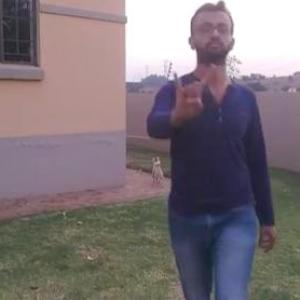takeoff-hand: (165, 57, 219, 124)
